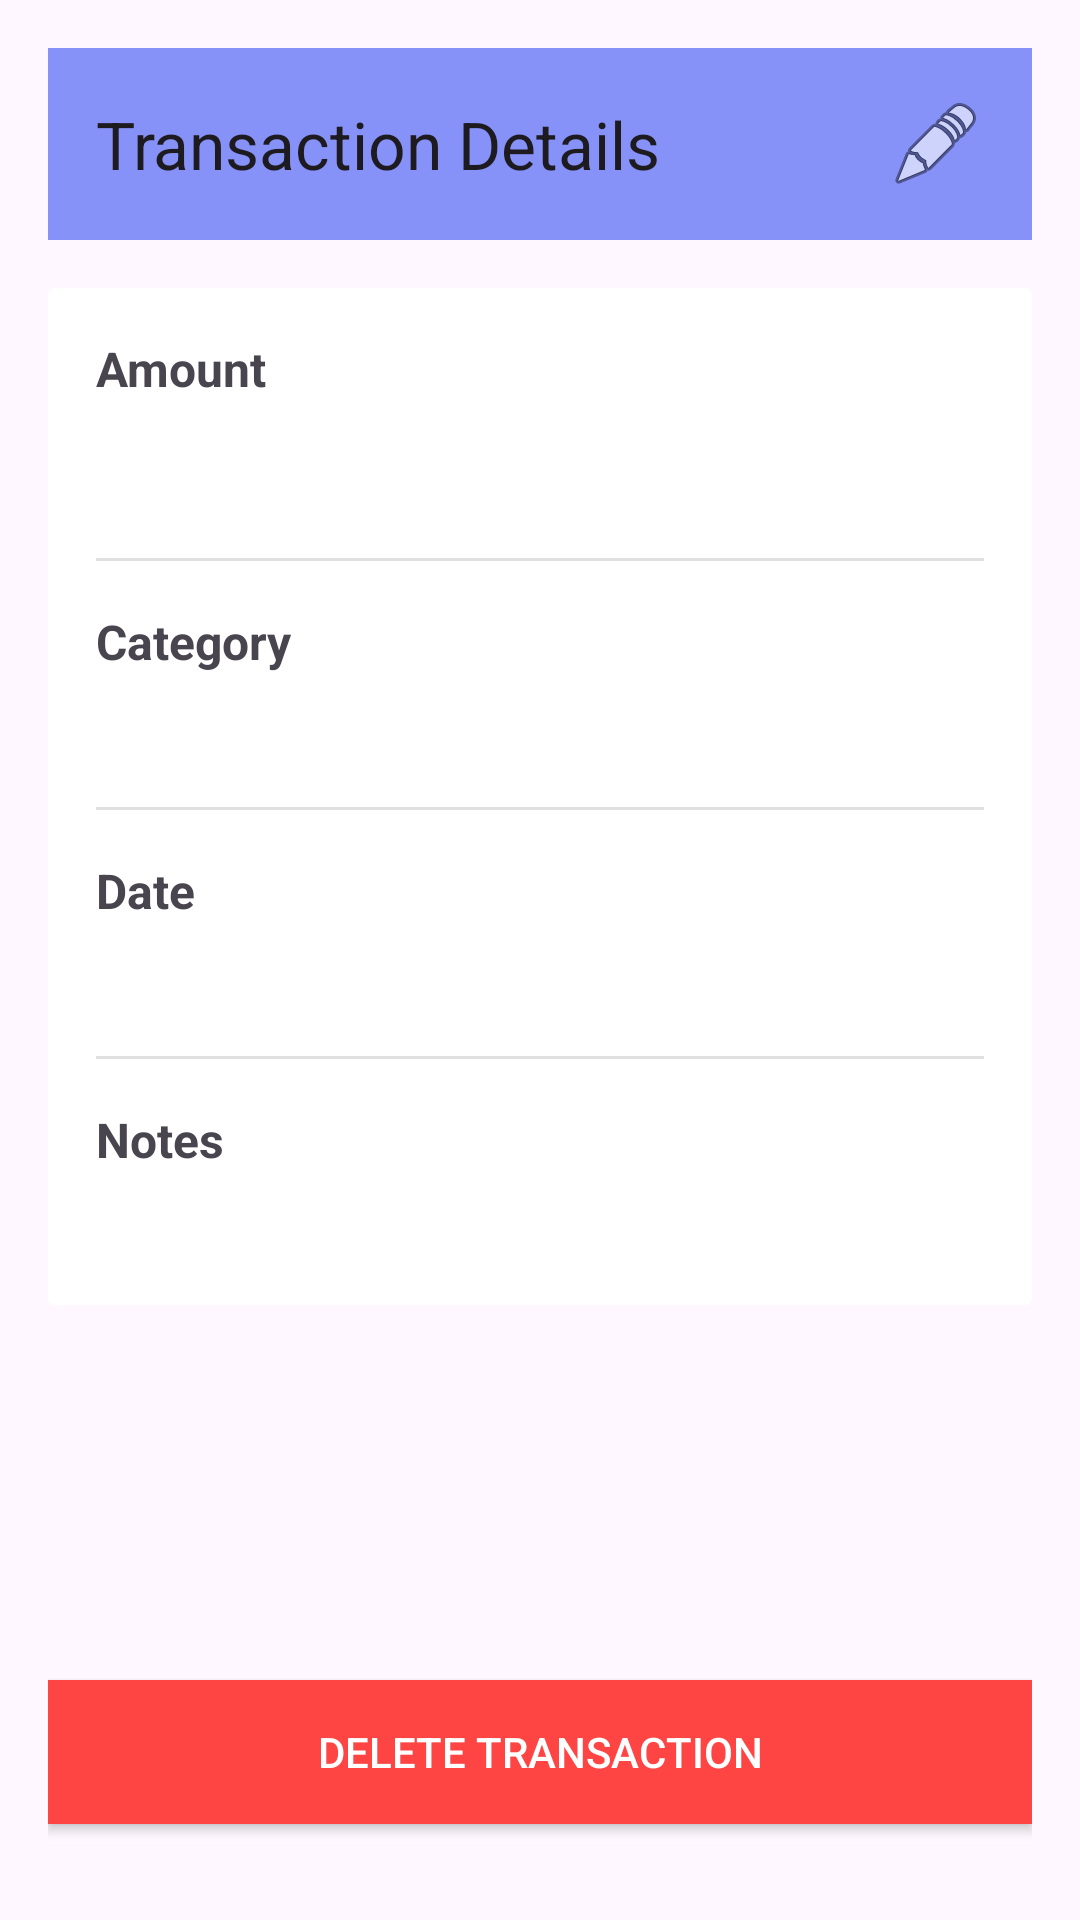

Icons on this 1080x1920 Android screen, each with the point to tap as [x,y]:
Edit transaction: [935,143]
